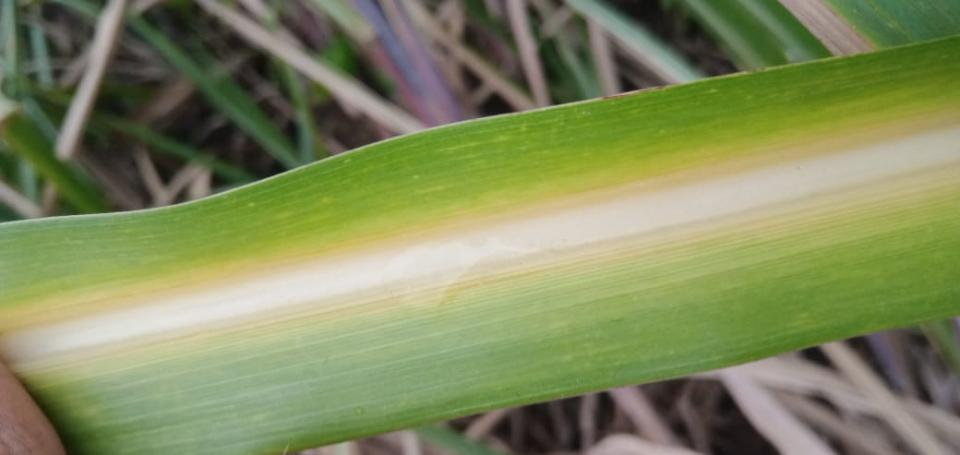Yellow: (0, 108, 959, 335), (6, 164, 959, 377)
